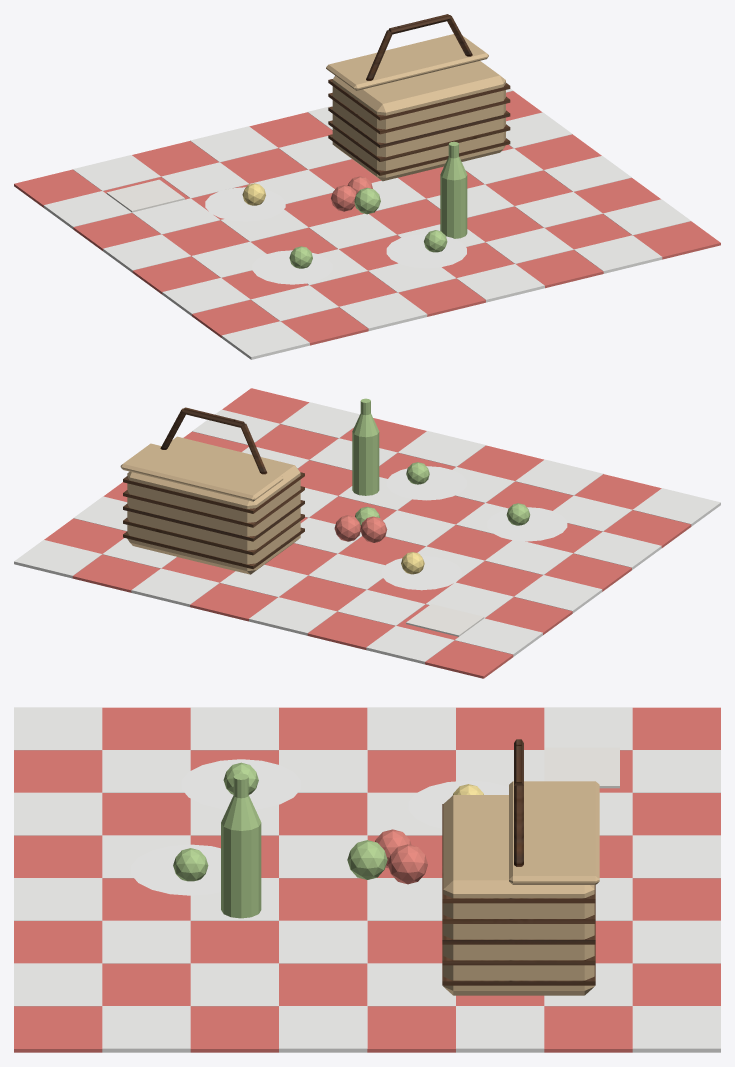
File: blanket_r.glb
The picture shows the model from 3 angles, top to bottom: view 1: azimuth 30°, elevation 25°; view 2: azimuth 150°, elevation 25°; view 3: azimuth 270°, elevation 25°; orthographic projection. The views are drawn at different scales.
Visible parts, largest first — view 1: blanket_r_paint_w, blanket_r_flag_r, blanket_r_basket, blanket_r_porcelain, blanket_r_dkwood, blanket_r_food_g, blanket_r_paper, blanket_r_food_r; view 2: blanket_r_paint_w, blanket_r_flag_r, blanket_r_basket, blanket_r_porcelain, blanket_r_dkwood, blanket_r_food_g, blanket_r_paper, blanket_r_food_r; view 3: blanket_r_paint_w, blanket_r_flag_r, blanket_r_basket, blanket_r_porcelain, blanket_r_food_g, blanket_r_dkwood, blanket_r_paper, blanket_r_food_r.
Boxes of the visible parts, <box> form: blanket_r_paint_w: <box>43,88,690,359</box>; blanket_r_flag_r: <box>14,91,720,345</box>; blanket_r_basket: <box>326,34,505,181</box>; blanket_r_porcelain: <box>205,187,466,284</box>; blanket_r_dkwood: <box>328,14,510,175</box>; blanket_r_food_g: <box>289,141,467,268</box>; blanket_r_paper: <box>106,179,184,212</box>; blanket_r_food_r: <box>331,176,372,211</box>; blanket_r_paint_w: <box>14,402,720,664</box>; blanket_r_flag_r: <box>44,388,691,678</box>; blanket_r_basket: <box>120,436,300,574</box>; blanket_r_porcelain: <box>381,466,567,590</box>; blanket_r_dkwood: <box>123,407,304,569</box>; blanket_r_food_g: <box>352,398,530,525</box>; blanket_r_paper: <box>406,604,484,636</box>; blanket_r_food_r: <box>334,515,387,542</box>; blanket_r_paint_w: <box>14,707,720,1052</box>; blanket_r_flag_r: <box>14,707,720,1052</box>; blanket_r_basket: <box>443,781,599,995</box>; blanket_r_porcelain: <box>131,759,508,895</box>; blanket_r_food_g: <box>173,762,387,918</box>; blanket_r_dkwood: <box>442,739,595,985</box>; blanket_r_paper: <box>544,747,619,788</box>; blanket_r_food_r: <box>375,829,427,884</box>.
Bounding box in the file's own units: 1.6 × 0.4287 × 1.4.
Materials: 9 (1 with a texture image).
